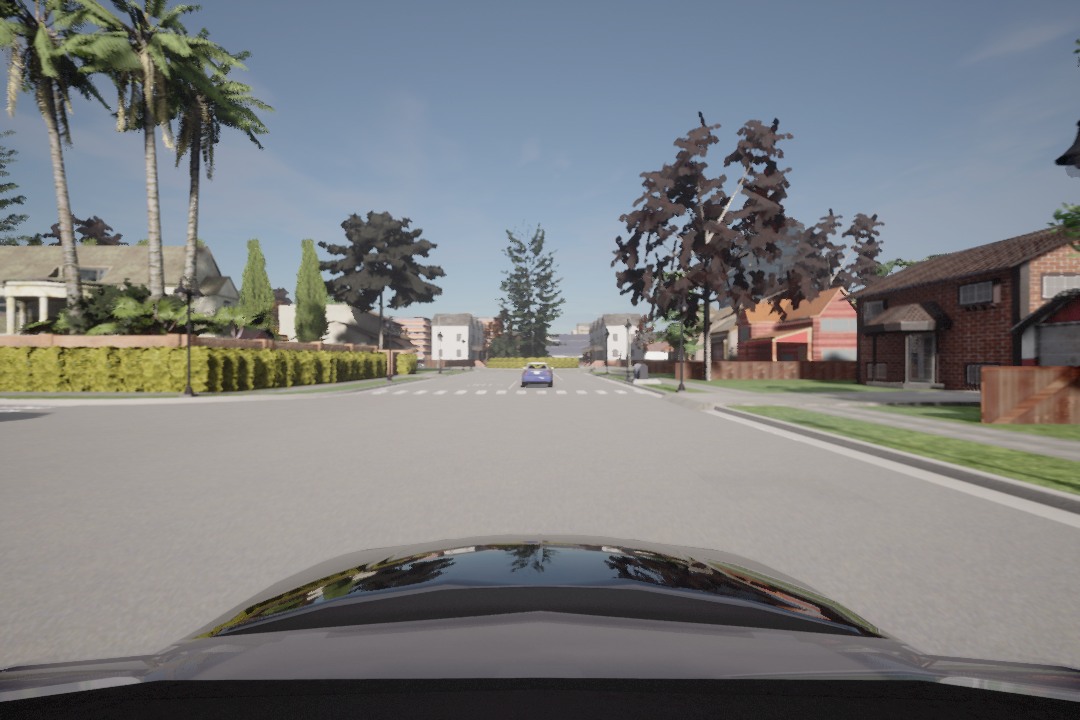walkside: (376, 383, 645, 397)
